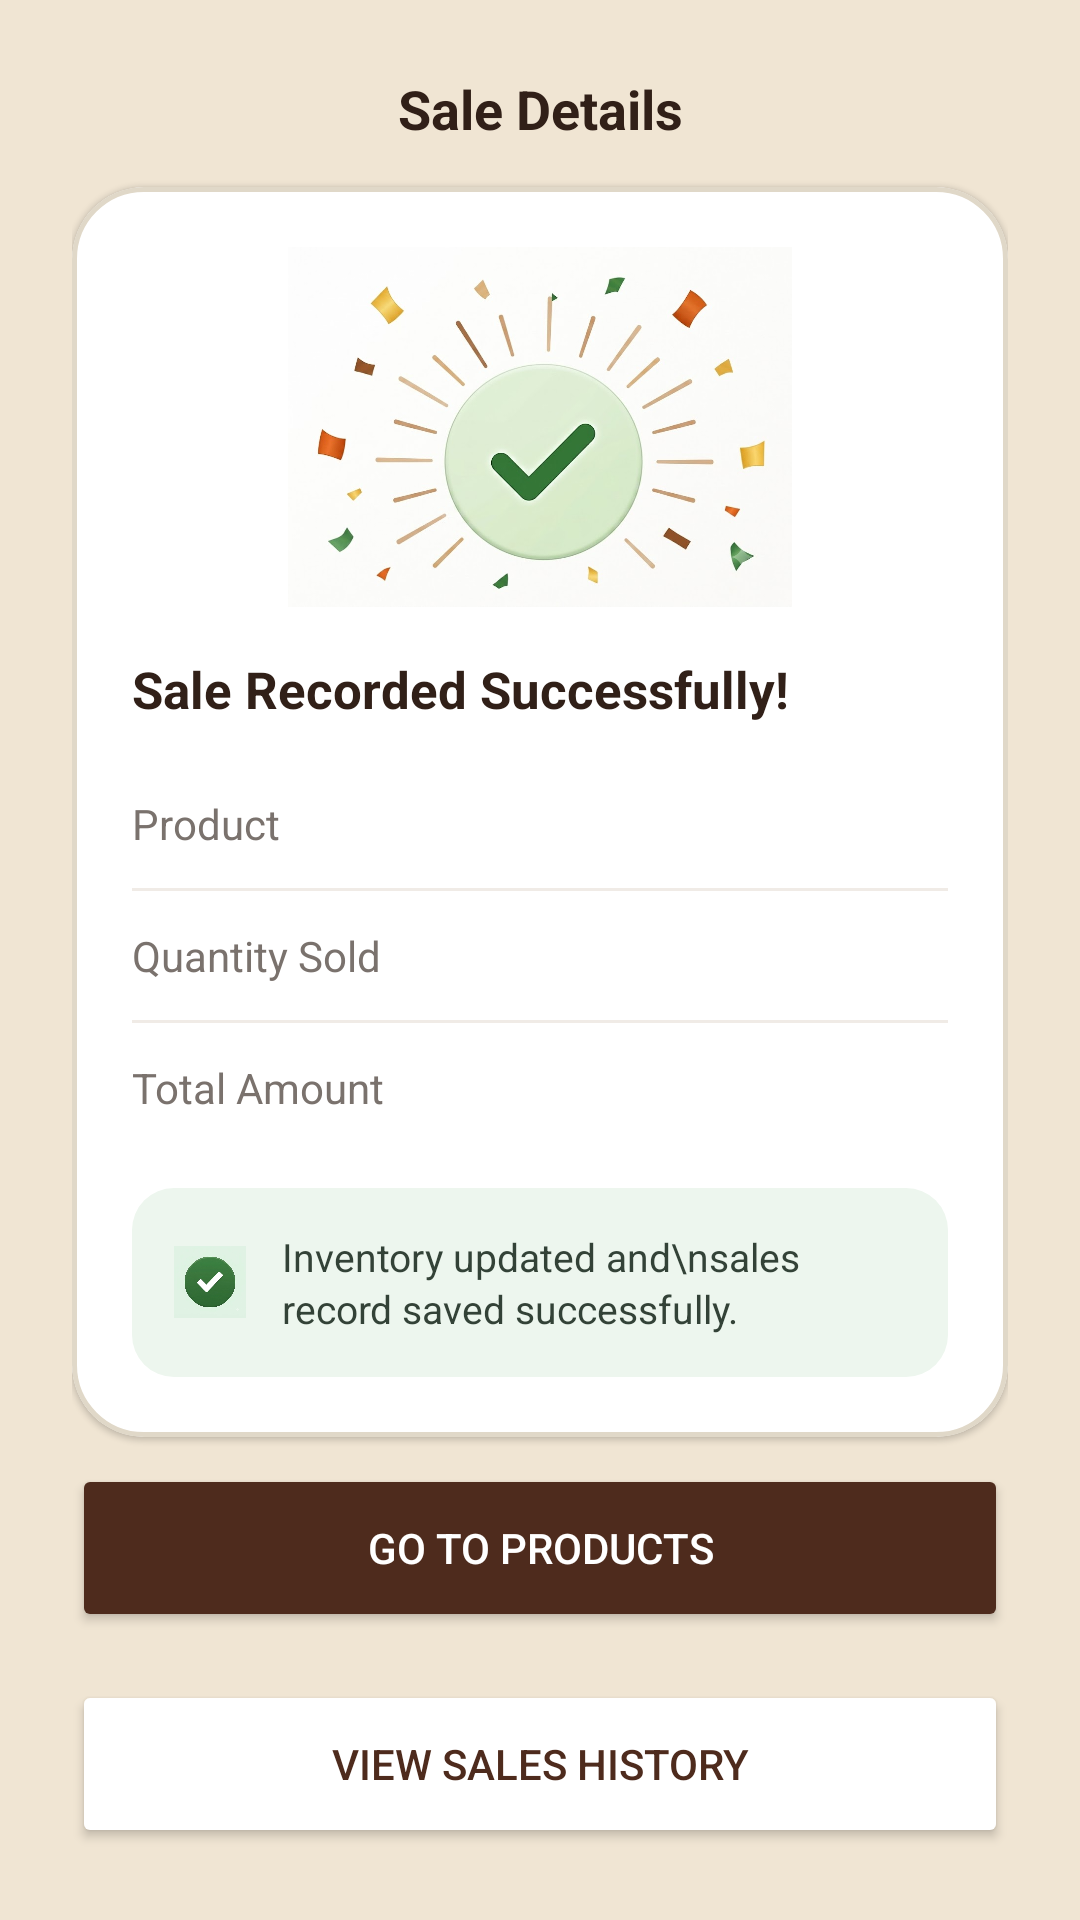

Where to tap for icons on this 1080×1920 app screen, as [x,y]:
check circle: [210,1282]
